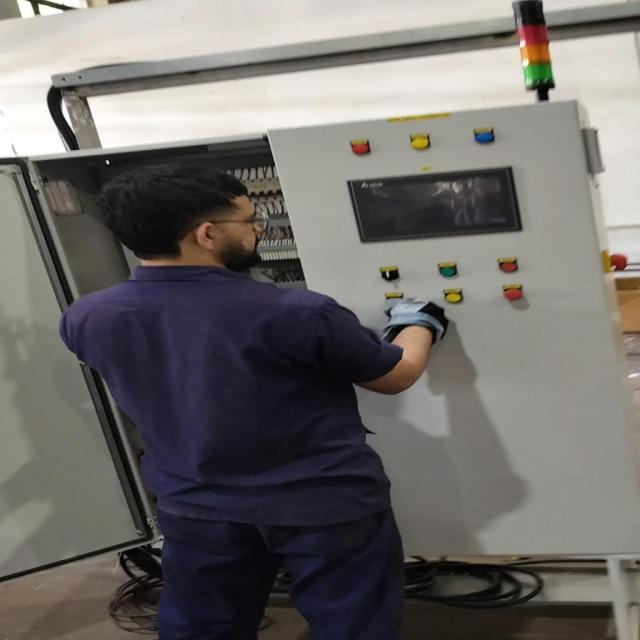Gloves-Detection: (377, 297, 460, 347)
